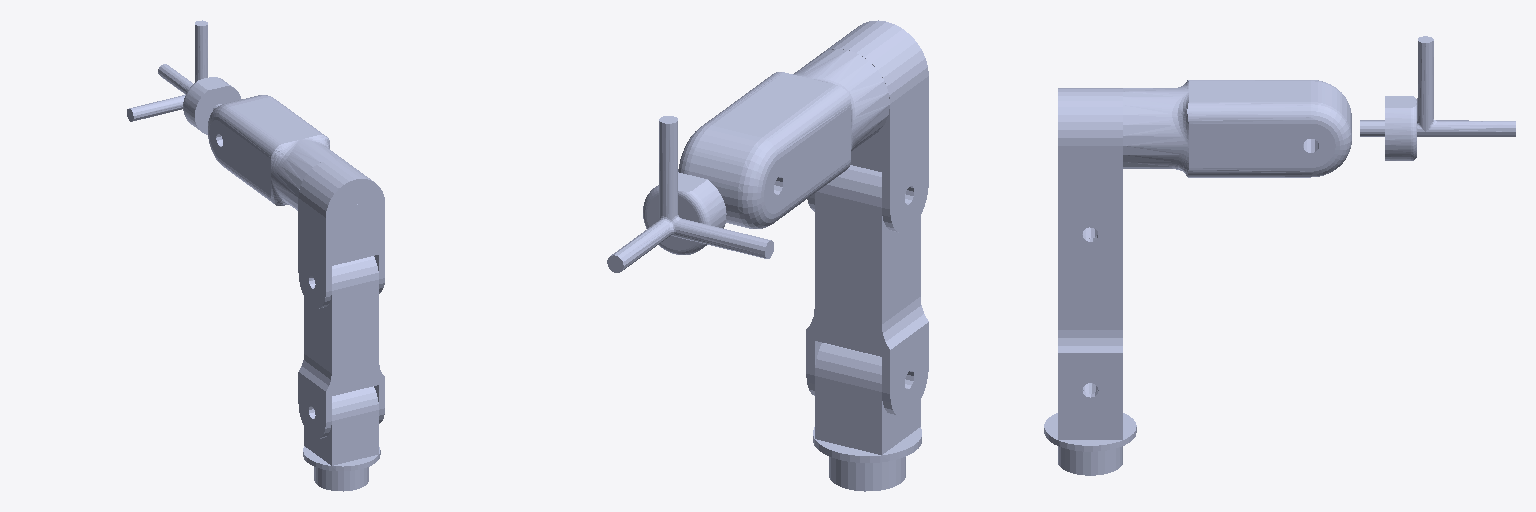
The robot description file, URDF, robot "assem2":
<?xml version="1.0" encoding="utf-8"?>
<!-- This URDF was automatically created by SolidWorks to URDF Exporter! Originally created by [author] ([email redacted]) 
     Commit Version: 1.6.0-4-g7f85cfe  Build Version: 1.6.7995.38578
     For more information, please see http://wiki.ros.org/sw_urdf_exporter -->
<robot
  name="assem2">
  <link
    name="base_link">
    <inertial>
      <origin
        xyz="4.24779972951501E-20 0.0149477232172278 -6.0177162834796E-19"
        rpy="0 0 0" />
      <mass
        value="0.233677856365645" />
      <inertia
        ixx="0.000165802946683648"
        ixy="-5.86095130205183E-22"
        ixz="4.05835488033829E-21"
        iyy="0.000296329731641364"
        iyz="-1.803657355605E-21"
        izz="0.000165802946683648" />
    </inertial>
    <visual>
      <origin
        xyz="0 0 0"
        rpy="0 0 0" />
      <geometry>
        <mesh
          filename="package://assem2/meshes/base_link.STL" />
      </geometry>
      <material
        name="">
        <color
          rgba="0.792156862745098 0.819607843137255 0.933333333333333 1" />
      </material>
    </visual>
    <collision>
      <origin
        xyz="0 0 0"
        rpy="0 0 0" />
      <geometry>
        <mesh
          filename="package://assem2/meshes/base_link.STL" />
      </geometry>
    </collision>
  </link>
  <link
    name="L1">
    <inertial>
      <origin
        xyz="-1.88981645745748E-17 1.33877639681701E-19 0.00927432460875134"
        rpy="0 0 0" />
      <mass
        value="0.0143471232869168" />
      <inertia
        ixx="2.12177320624765E-06"
        ixy="-8.46804832760958E-23"
        ixz="9.92693197654047E-23"
        iyy="2.10806964454254E-06"
        iyz="1.54917786915708E-22"
        izz="9.32299348577374E-07" />
    </inertial>
    <visual>
      <origin
        xyz="0 0 0"
        rpy="0 0 0" />
      <geometry>
        <mesh
          filename="package://assem2/meshes/L1.STL" />
      </geometry>
      <material
        name="">
        <color
          rgba="0.792156862745098 0.819607843137255 0.933333333333333 1" />
      </material>
    </visual>
    <collision>
      <origin
        xyz="0 0 0"
        rpy="0 0 0" />
      <geometry>
        <mesh
          filename="package://assem2/meshes/L1.STL" />
      </geometry>
    </collision>
  </link>
  <joint
    name="J1"
    type="revolute">
    <origin
      xyz="0 0 0.03"
      rpy="0 0 1.5708" />
    <parent
      link="base_link" />
    <child
      link="L1" />
    <axis
      xyz="0 0 1" />
    <limit
      lower="-1.57"
      upper="1.57"
      effort="0"
      velocity="0" />
  </joint>
  <link
    name="L2">
    <inertial>
      <origin
        xyz="0.0318036090643631 1.74476714528237E-17 -3.63696585430313E-17"
        rpy="0 0 0" />
      <mass
        value="0.0218942430386524" />
      <inertia
        ixx="1.64119620067033E-06"
        ixy="2.88659514789683E-22"
        ixz="2.06963177891855E-22"
        iyy="7.12449078763676E-06"
        iyz="-5.77513542154947E-23"
        izz="6.90865188528047E-06" />
    </inertial>
    <visual>
      <origin
        xyz="0 0 0"
        rpy="0 0 0" />
      <geometry>
        <mesh
          filename="package://assem2/meshes/L2.STL" />
      </geometry>
      <material
        name="">
        <color
          rgba="0.792156862745098 0.819607843137255 0.933333333333333 1" />
      </material>
    </visual>
    <collision>
      <origin
        xyz="0 0 0"
        rpy="0 0 0" />
      <geometry>
        <mesh
          filename="package://assem2/meshes/L2.STL" />
      </geometry>
    </collision>
  </link>
  <joint
    name="J2"
    type="revolute">
    <origin
      xyz="0 0 0.02"
      rpy="1.5708 -1.5708 0" />
    <parent
      link="L1" />
    <child
      link="L2" />
    <axis
      xyz="0 0 1" />
    <limit
      lower="-1.57"
      upper="1.57"
      effort="0"
      velocity="0" />
  </joint>
  <link
    name="L3">
    <inertial>
      <origin
        xyz="0.0224145914482569 1.2045877516044E-17 4.220687600728E-17"
        rpy="0 0 0" />
      <mass
        value="0.0162032628325081" />
      <inertia
        ixx="1.46306818301817E-06"
        ixy="6.82994103025598E-23"
        ixz="3.5375314719934E-22"
        iyy="2.98985840571389E-06"
        iyz="1.69873121080214E-22"
        izz="2.60015596401038E-06" />
    </inertial>
    <visual>
      <origin
        xyz="0 0 0"
        rpy="0 0 0" />
      <geometry>
        <mesh
          filename="package://assem2/meshes/L3.STL" />
      </geometry>
      <material
        name="">
        <color
          rgba="0.792156862745098 0.819607843137255 0.933333333333333 1" />
      </material>
    </visual>
    <collision>
      <origin
        xyz="0 0 0"
        rpy="0 0 0" />
      <geometry>
        <mesh
          filename="package://assem2/meshes/L3.STL" />
      </geometry>
    </collision>
  </link>
  <joint
    name="J3"
    type="revolute">
    <origin
      xyz="0.0525 0 0"
      rpy="0 0 0" />
    <parent
      link="L2" />
    <child
      link="L3" />
    <axis
      xyz="0 0 -1" />
    <limit
      lower="-1.57"
      upper="1.57"
      effort="0"
      velocity="0" />
  </joint>
  <link
    name="L4">
    <inertial>
      <origin
        xyz="-5.3508081299114E-10 -3.71190642243975E-09 -0.0441504737134913"
        rpy="0 0 0" />
      <mass
        value="0.038253532624055" />
      <inertia
        ixx="1.62262504509542E-05"
        ixy="-2.5285316291637E-13"
        ixz="4.70788493705881E-13"
        iyy="1.61954742875068E-05"
        iyz="2.37727514451436E-12"
        izz="3.48393384673886E-06" />
    </inertial>
    <visual>
      <origin
        xyz="0 0 0"
        rpy="0 0 0" />
      <geometry>
        <mesh
          filename="package://assem2/meshes/L4.STL" />
      </geometry>
      <material
        name="">
        <color
          rgba="0.792156862745098 0.819607843137255 0.933333333333333 1" />
      </material>
    </visual>
    <collision>
      <origin
        xyz="0 0 0"
        rpy="0 0 0" />
      <geometry>
        <mesh
          filename="package://assem2/meshes/L4.STL" />
      </geometry>
    </collision>
  </link>
  <joint
    name="J4"
    type="revolute">
    <origin
      xyz="0.03 0 0"
      rpy="-1.5708 0 0" />
    <parent
      link="L3" />
    <child
      link="L4" />
    <axis
      xyz="0 0 -1" />
    <limit
      lower="-1.57"
      upper="1.57"
      effort="0"
      velocity="0" />
  </joint>
  <link
    name="L5">
    <inertial>
      <origin
        xyz="5.91161453122879E-10 -0.0122190585225825 2.34658686765731E-09"
        rpy="0 0 0" />
      <mass
        value="0.00534779938775355" />
      <inertia
        ixx="9.78910055781953E-07"
        ixy="8.73027106127227E-14"
        ixz="1.23211470981713E-12"
        iyy="7.54089575589643E-07"
        iyz="1.0959422460502E-13"
        izz="5.57875026158984E-07" />
    </inertial>
    <visual>
      <origin
        xyz="0 0 0"
        rpy="0 0 0" />
      <geometry>
        <mesh
          filename="package://assem2/meshes/L5.STL" />
      </geometry>
      <material
        name="">
        <color
          rgba="0.792156862745098 0.819607843137255 0.933333333333333 1" />
      </material>
    </visual>
    <collision>
      <origin
        xyz="0 0 0"
        rpy="0 0 0" />
      <geometry>
        <mesh
          filename="package://assem2/meshes/L5.STL" />
      </geometry>
    </collision>
  </link>
  <joint
    name="J5"
    type="revolute">
    <origin
      xyz="0 0 -0.0675"
      rpy="1.5708 0 0" />
    <parent
      link="L4" />
    <child
      link="L5" />
    <axis
      xyz="0 0 1" />
    <limit
      lower="-1.57"
      upper="1.57"
      effort="0"
      velocity="0" />
  </joint>
  <link
    name="L6">
    <inertial>
      <origin
        xyz="0.00173394678374875 -0.00183873327321435 0.00898504259387631"
        rpy="0 0 0" />
      <mass
        value="0.00477918020074796" />
      <inertia
        ixx="3.4992440183678E-07"
        ixy="-4.49392000009137E-08"
        ixz="3.66988266963345E-08"
        iyy="3.45333816647997E-07"
        iyz="-3.67566916952976E-08"
        izz="4.14729683205602E-07" />
    </inertial>
    <visual>
      <origin
        xyz="0 0 0"
        rpy="0 0 0" />
      <geometry>
        <mesh
          filename="package://assem2/meshes/L6.STL" />
      </geometry>
      <material
        name="">
        <color
          rgba="0.792156862745098 0.819607843137255 0.933333333333333 1" />
      </material>
    </visual>
    <collision>
      <origin
        xyz="0 0 0"
        rpy="0 0 0" />
      <geometry>
        <mesh
          filename="package://assem2/meshes/L6.STL" />
      </geometry>
    </collision>
  </link>
  <joint
    name="J6"
    type="revolute">
    <origin
      xyz="0 -0.0225 0"
      rpy="1.5708 0 0" />
    <parent
      link="L5" />
    <child
      link="L6" />
    <axis
      xyz="0 0 -1" />
    <limit
      lower="-1.57"
      upper="1.57"
      effort="0"
      velocity="0" />
  </joint>
</robot>

--- What the picture shows (computed from the rendered views, not written in the file) ---
The picture shows the robot from 3 angles, left to right: view 1: azimuth 30°, elevation 25°; view 2: azimuth 150°, elevation 25°; view 3: azimuth 270°, elevation 25°; orthographic projection.
Robot: assem2 — 7 links, 6 joints (6 revolute); root link base_link; default pose: every joint at zero.
Visible links, largest first — view 1: L2, L3, L4, L1, L6; view 2: L4, L2, L1, L3, L6; view 3: L4, L3, L2, L6, L1.
Boxes of the visible links, <box> form: L2: <box>298,256,384,438</box>; L3: <box>298,159,384,308</box>; L4: <box>208,95,360,216</box>; L1: <box>303,386,380,491</box>; L6: <box>127,20,241,134</box>; L4: <box>678,49,889,228</box>; L2: <box>806,165,928,417</box>; L1: <box>813,343,921,491</box>; L3: <box>807,20,928,232</box>; L6: <box>607,116,773,272</box>; L4: <box>1123,80,1351,177</box>; L3: <box>1058,88,1122,263</box>; L2: <box>1058,227,1122,419</box>; L6: <box>1360,36,1515,160</box>; L1: <box>1044,383,1136,475</box>.
Size in the robot's own frame: 0.0441 by 0.1441 by 0.1425 metres.
Meshes: 7 distinct files referenced, 5 mesh visuals loaded (5 binary STL); not drawn: 2 (reference not matched to a file when rendering).